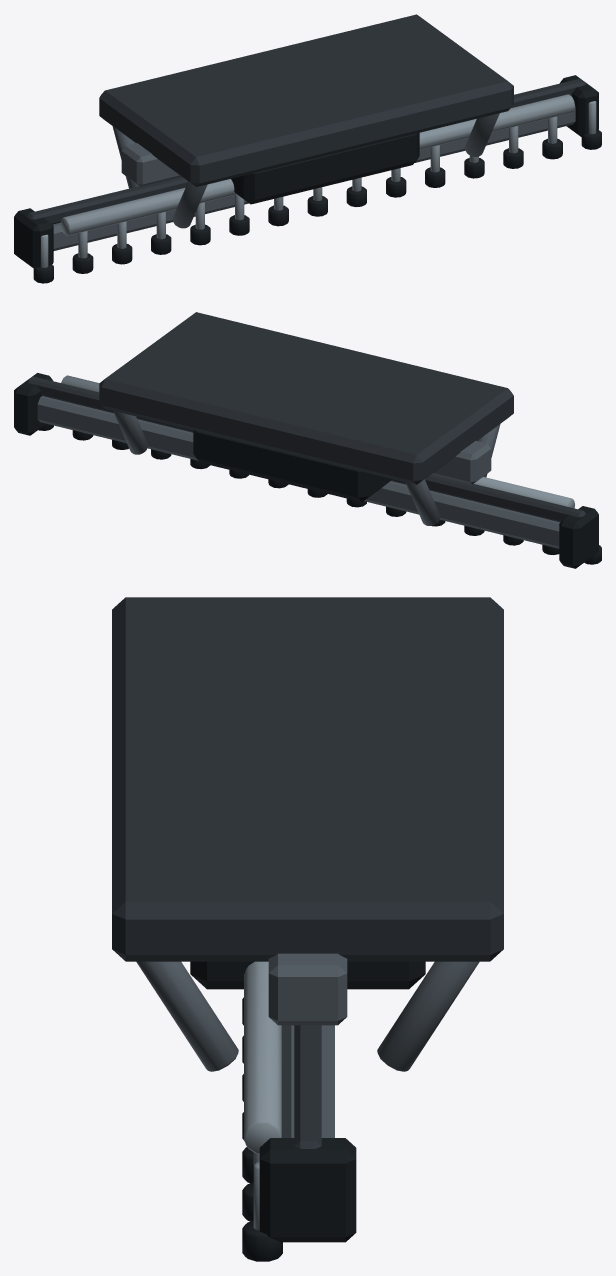
The model's file is SeedSower.glb.
The picture shows the model from 3 angles, top to bottom: view 1: azimuth 30°, elevation 25°; view 2: azimuth 150°, elevation 25°; view 3: azimuth 270°, elevation 25°; orthographic projection. The views are drawn at different scales.
Visible parts, largest first — view 1: FTF_Tool_VehicleSeedSowerUnderbody_Black_3_0m_Static; view 2: FTF_Tool_VehicleSeedSowerUnderbody_Black_3_0m_Static; view 3: FTF_Tool_VehicleSeedSowerUnderbody_Black_3_0m_Static.
Part boxes in pixels (x1,y1,x2,y2): FTF_Tool_VehicleSeedSowerUnderbody_Black_3_0m_Static: [14, 14, 601, 283]; FTF_Tool_VehicleSeedSowerUnderbody_Black_3_0m_Static: [14, 312, 601, 568]; FTF_Tool_VehicleSeedSowerUnderbody_Black_3_0m_Static: [112, 597, 503, 1261].
Size of the model in its own units: 4.34 by 0.87 by 1.3.
